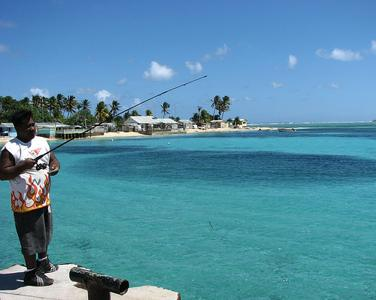person: (2, 111, 62, 286)
